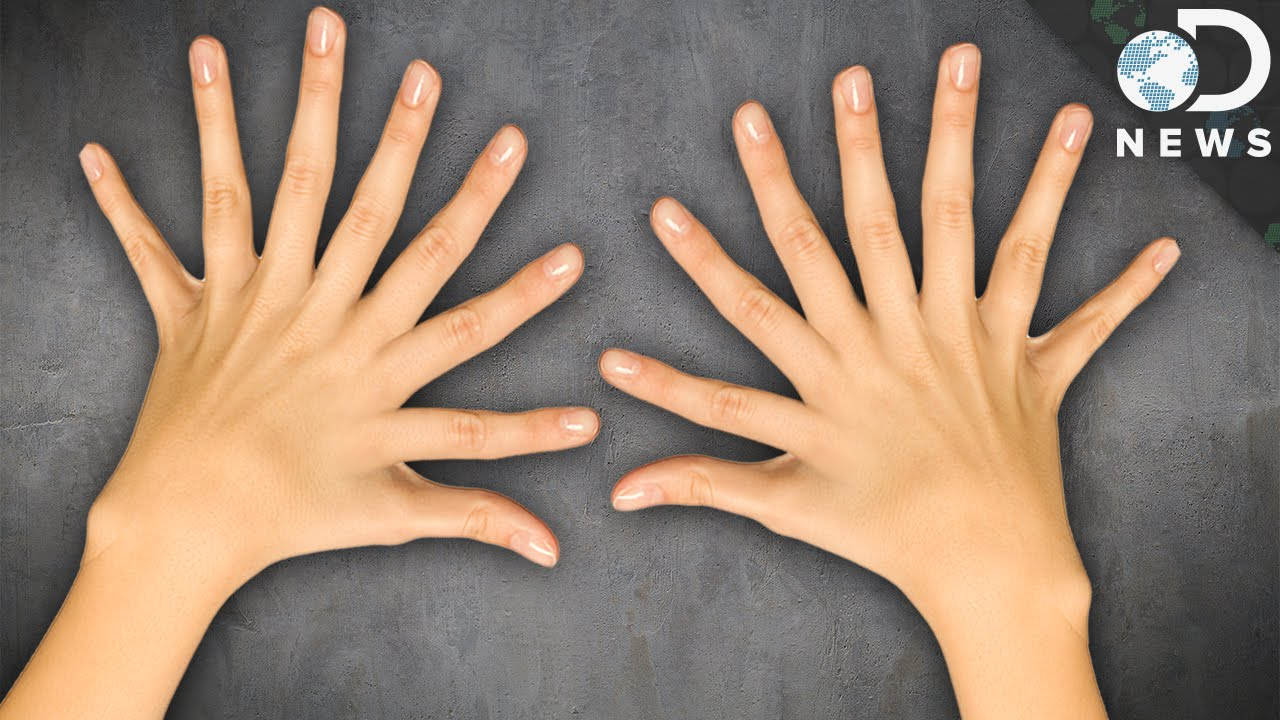finger: (631, 196, 869, 394), (357, 129, 535, 355), (720, 97, 883, 329), (314, 55, 458, 304), (381, 250, 585, 409), (594, 343, 856, 465), (814, 63, 925, 318), (249, 2, 347, 283), (976, 110, 1105, 323), (62, 139, 201, 328), (1038, 235, 1188, 366), (351, 396, 596, 460), (931, 35, 982, 321), (199, 33, 248, 301)
